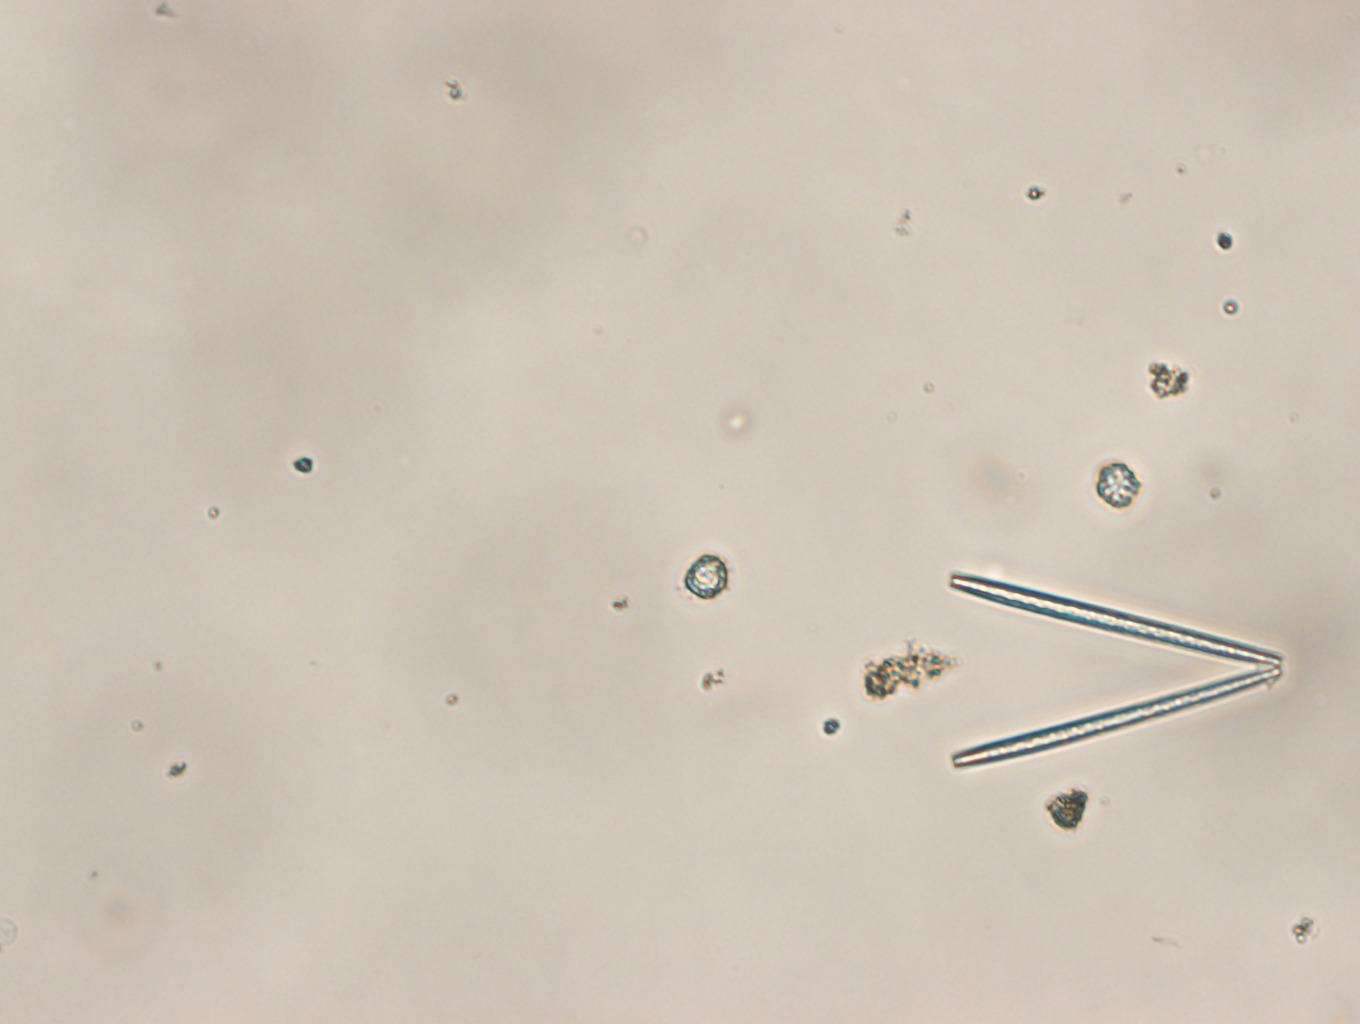thalassionema frauenfeldii: (946, 569, 1286, 771)
